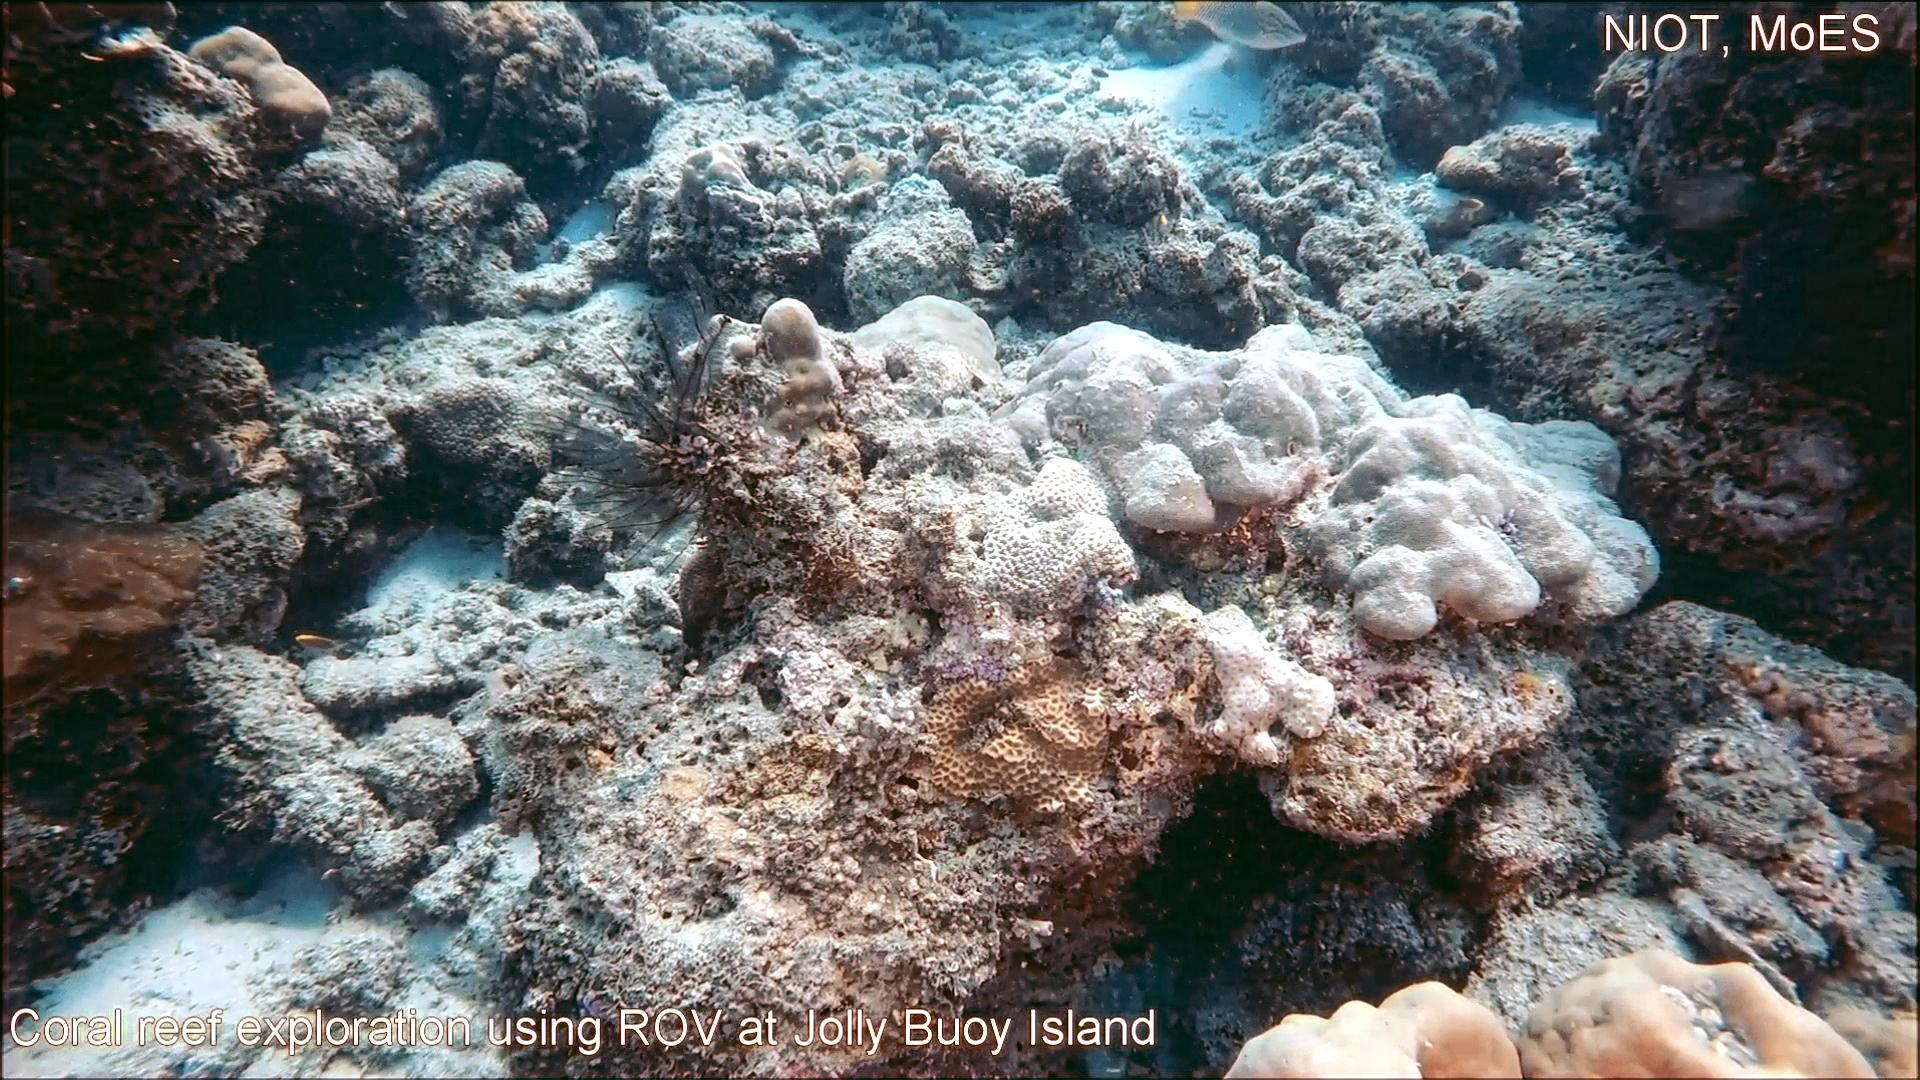Feather star-Crinoid star: (532, 256, 741, 583)
Goniastrea-Goniastrea pectinata: (976, 450, 1142, 625)
Porites-Porites pukoensis: (1220, 312, 1666, 645)
Turbinaria-Turbinaria stellulata: (404, 374, 541, 479)
